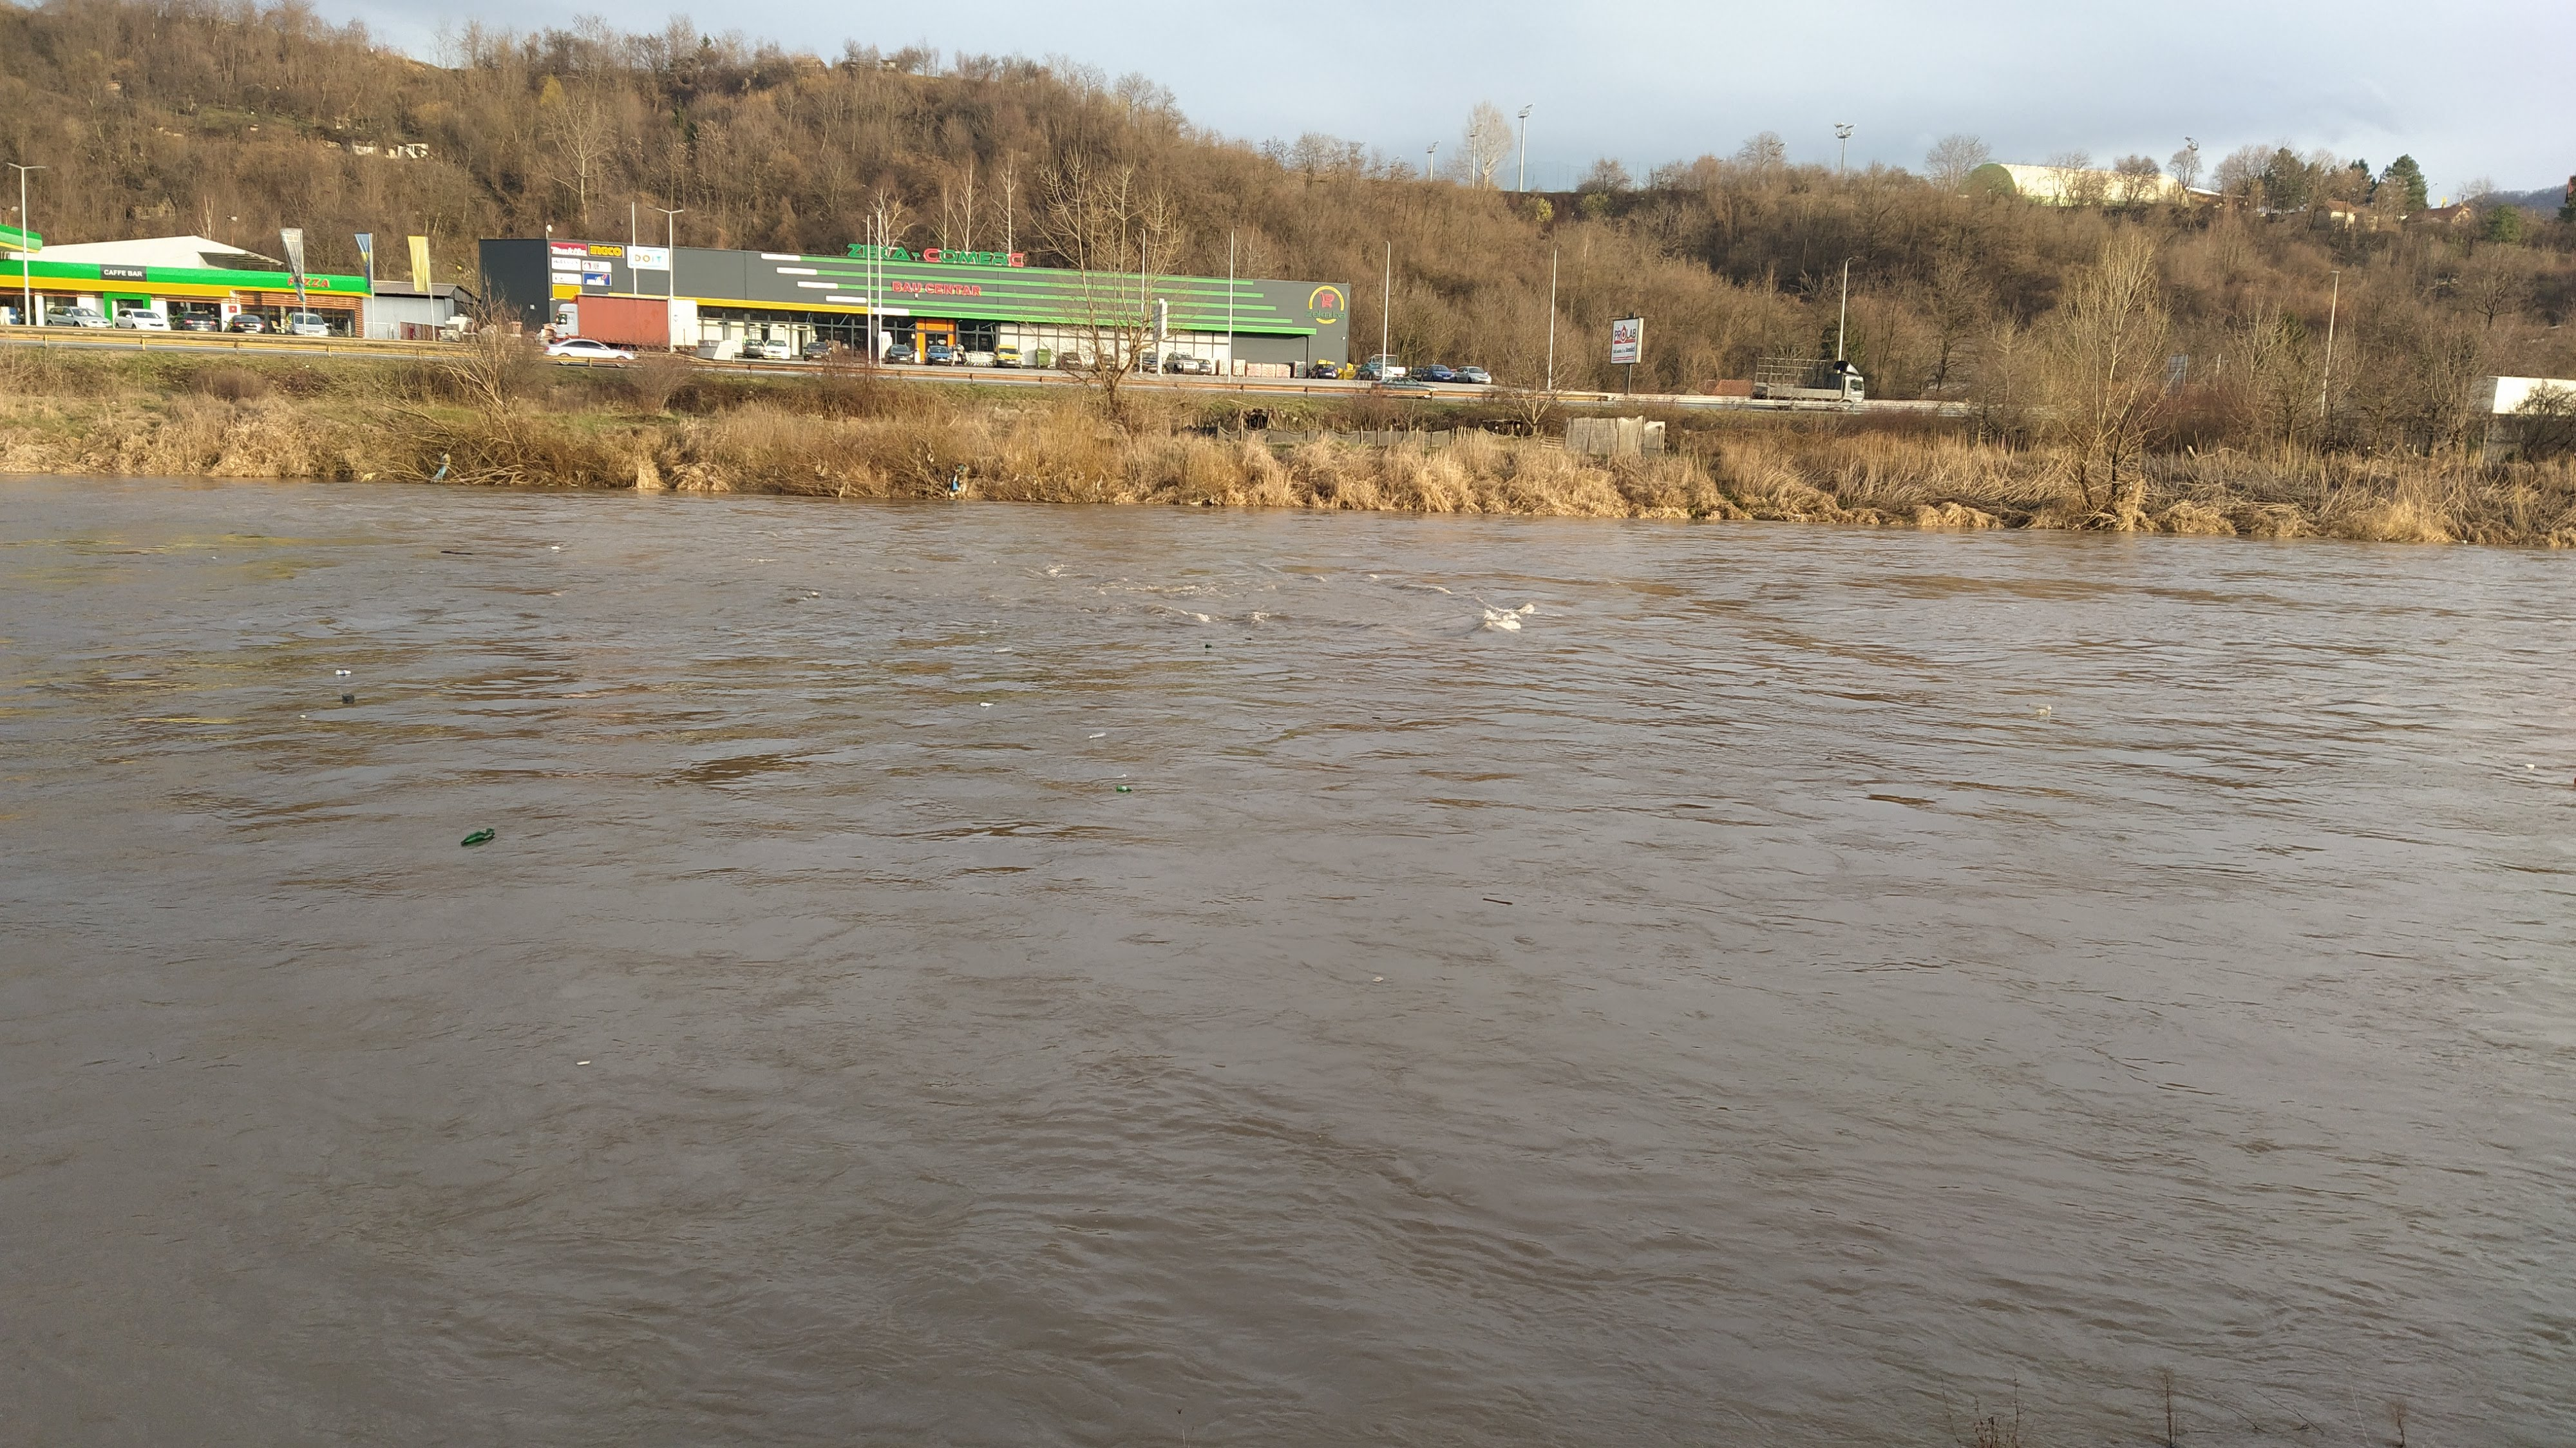Plastic Bottle: (462, 828, 495, 846), (2026, 703, 2051, 710), (1088, 731, 1106, 740), (993, 646, 1012, 653), (336, 669, 350, 674), (1116, 786, 1131, 791), (2036, 708, 2047, 715), (980, 701, 993, 706), (341, 694, 352, 699), (2525, 763, 2534, 766), (552, 545, 559, 549), (1205, 644, 1212, 648), (993, 620, 996, 623), (2461, 540, 2466, 542)
